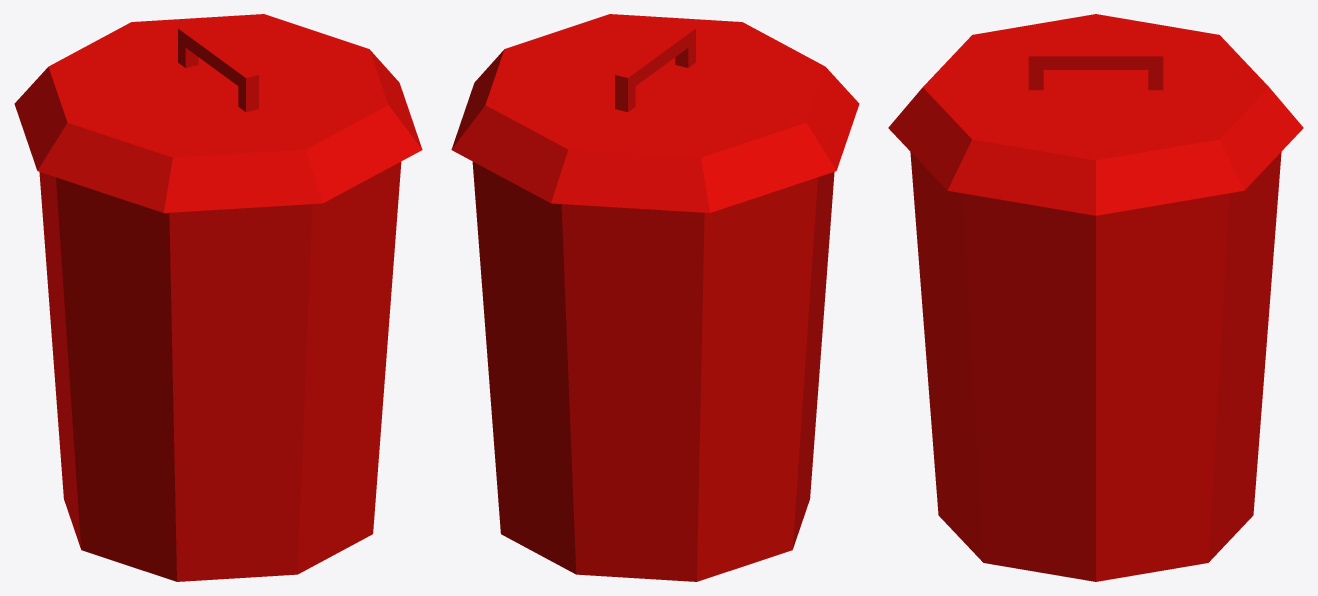
The model's file is TrashCan.fbx.
3 renders of one model, left to right at view 1: azimuth 30°, elevation 25°; view 2: azimuth 150°, elevation 25°; view 3: azimuth 270°, elevation 25°, orthographic.
Visible parts, largest first — view 1: Trash; view 2: Trash; view 3: Trash.
Boxes of the visible parts, x1=… form: Trash: x1=14, y1=14, x2=422, y2=581; Trash: x1=451, y1=14, x2=859, y2=581; Trash: x1=888, y1=14, x2=1303, y2=581.
Bounding box in the file's own units: 554 × 554 × 680.
